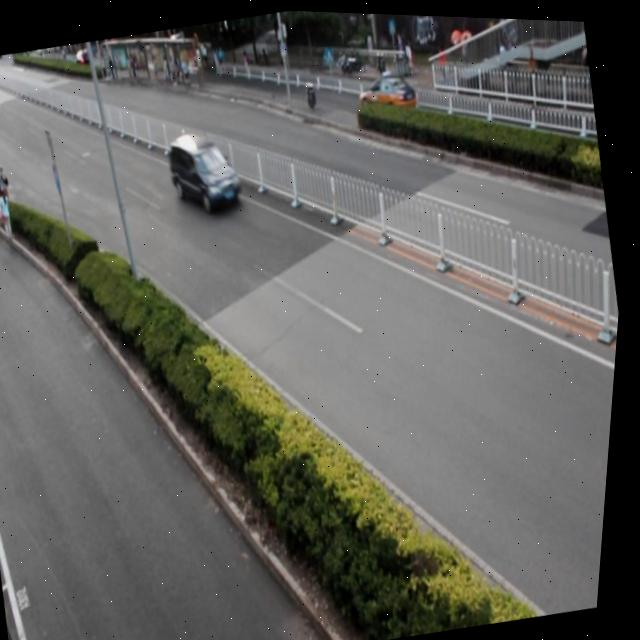car: (165, 124, 248, 216), (354, 64, 422, 122)
